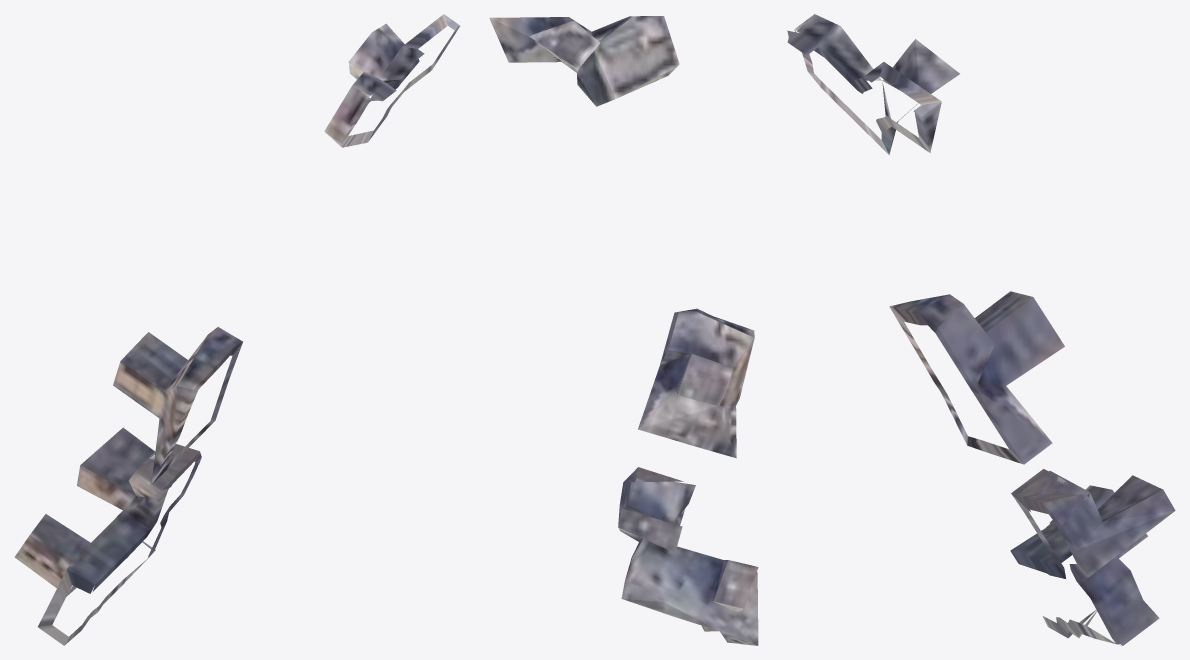
The picture shows the model from 3 angles, left to right: view 1: azimuth 30°, elevation 25°; view 2: azimuth 150°, elevation 25°; view 3: azimuth 270°, elevation 25°; orthographic projection. The views are drawn at different scales.
Bounding box in the file's own units: 62.18 × 96.29 × 45.43.
Materials: 1 (1 with a texture image).
